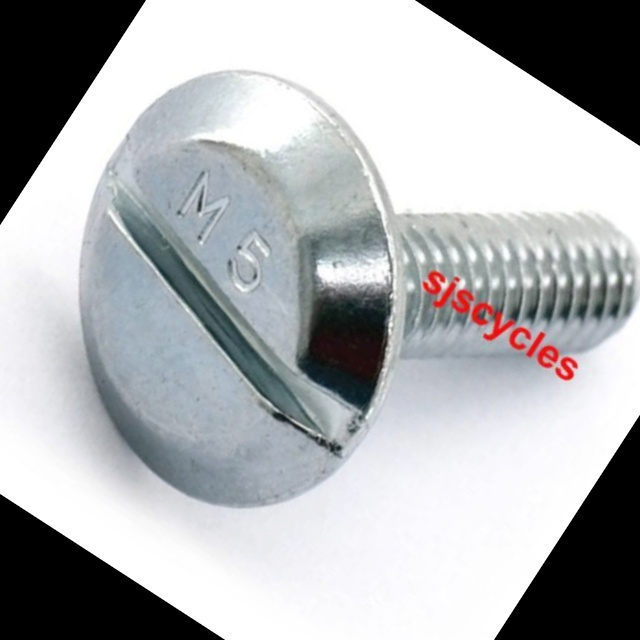duz: (0, 16, 506, 559)
